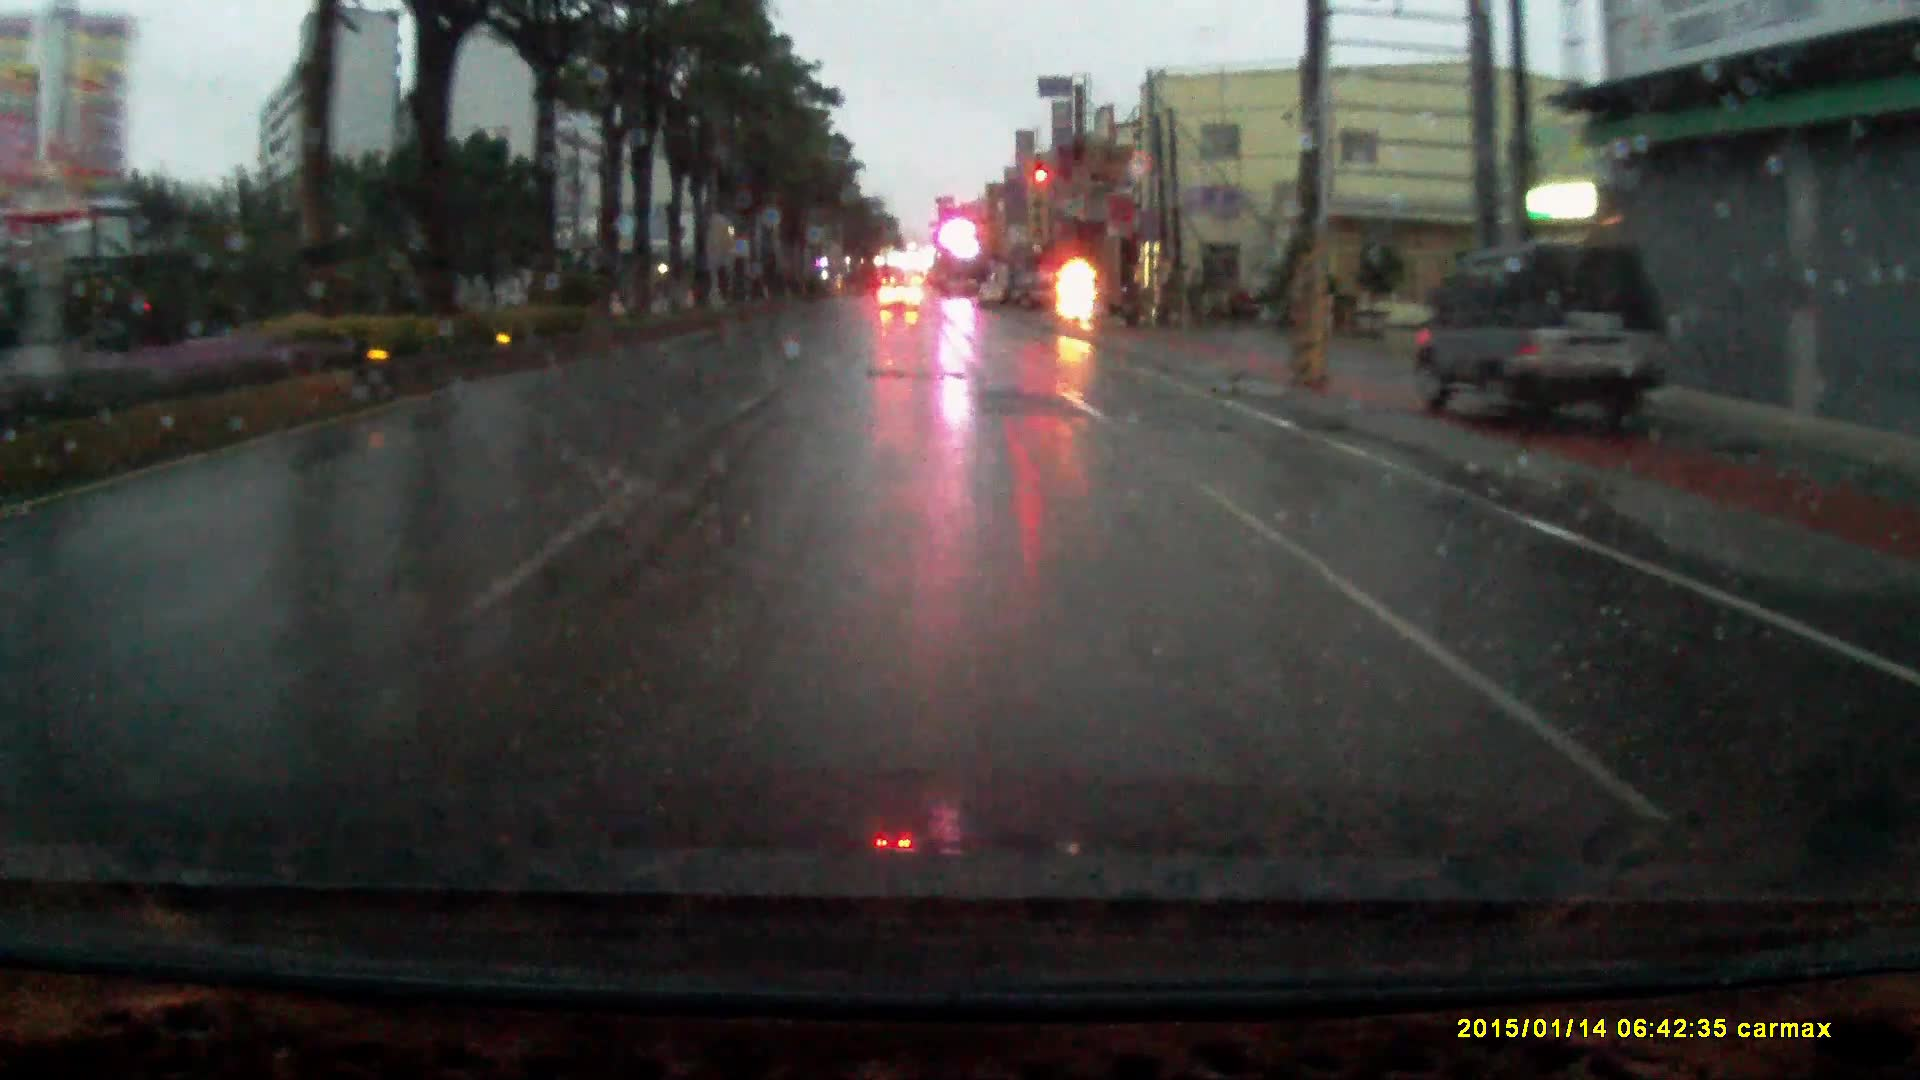vehicle: (1423, 237, 1673, 442), (1009, 290, 1068, 328), (877, 284, 923, 319)
